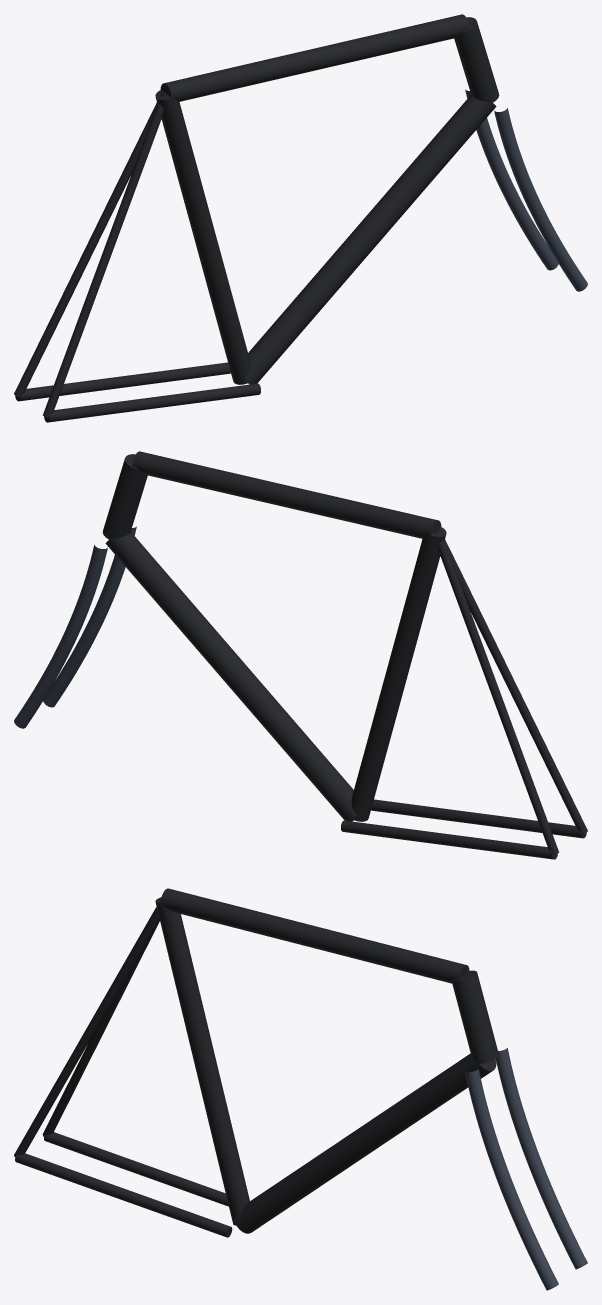
Rendered from dosnoventa-02-la-m.glb.
The picture shows the model from 3 angles, top to bottom: view 1: azimuth 30°, elevation 25°; view 2: azimuth 150°, elevation 25°; view 3: azimuth 330°, elevation 25°; orthographic projection.
Visible parts, largest first — view 1: paint_down, paint_top, paint_seat, paint_seatstay_0.045, fork_0.045, paint_seatstay_-0.045, paint_chainstay_0.045, paint_chainstay_-0.045, fork_-0.045, paint_head; view 2: paint_down, paint_top, paint_seat, paint_seatstay_-0.045, fork_-0.045, paint_seatstay_0.045, paint_chainstay_-0.045, paint_chainstay_0.045, fork_0.045, paint_head; view 3: paint_down, paint_seat, paint_top, fork_0.045, fork_-0.045, paint_chainstay_0.045, paint_seatstay_0.045, paint_head, paint_chainstay_-0.045, paint_seatstay_-0.045.
Part boxes in pixels (x1,y1,x2,y2): paint_down: [244, 95, 496, 384]; paint_top: [160, 14, 469, 101]; paint_seat: [155, 90, 250, 384]; paint_seatstay_0.045: [42, 93, 168, 417]; fork_0.045: [494, 108, 587, 291]; paint_seatstay_-0.045: [14, 91, 165, 397]; paint_chainstay_0.045: [44, 383, 260, 422]; paint_chainstay_-0.045: [15, 362, 230, 401]; fork_-0.045: [465, 89, 558, 270]; paint_head: [454, 17, 499, 102]; paint_down: [105, 532, 357, 821]; paint_top: [132, 451, 441, 538]; paint_seat: [351, 527, 446, 821]; paint_seatstay_-0.045: [433, 530, 559, 854]; fork_-0.045: [14, 545, 107, 728]; paint_seatstay_0.045: [436, 528, 587, 834]; paint_chainstay_-0.045: [341, 820, 557, 859]; paint_chainstay_0.045: [371, 799, 586, 838]; fork_0.045: [43, 526, 136, 707]; paint_head: [102, 454, 147, 539]; paint_down: [233, 1053, 496, 1233]; paint_seat: [155, 897, 249, 1225]; paint_top: [160, 888, 469, 983]; fork_0.045: [465, 1069, 558, 1290]; fork_-0.045: [496, 1048, 587, 1269]; paint_chainstay_0.045: [15, 1153, 232, 1237]; paint_seatstay_0.045: [14, 899, 160, 1157]; paint_head: [452, 970, 499, 1063]; paint_chainstay_-0.045: [44, 1132, 228, 1206]; paint_seatstay_-0.045: [42, 919, 159, 1136].
Size of the model in its own units: 0.9768 by 0.5544 by 0.112.
